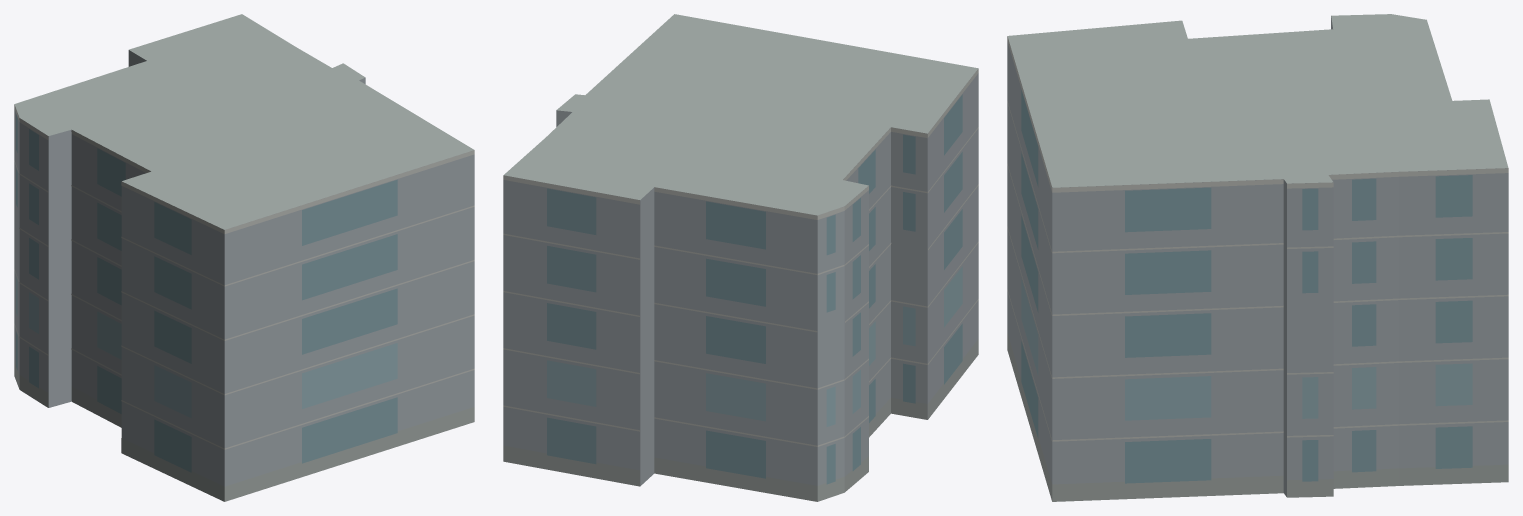
The model's file is survey-upis-32458248.glb.
The picture shows the model from 3 angles, left to right: view 1: azimuth 30°, elevation 25°; view 2: azimuth 150°, elevation 25°; view 3: azimuth 270°, elevation 25°; orthographic projection. The views are drawn at different scales.
Visible parts, largest first — view 1: survey-upis-32458248.tmp; view 2: survey-upis-32458248.tmp; view 3: survey-upis-32458248.tmp.
Part boxes in pixels (x1,y1,x2,y2): survey-upis-32458248.tmp: [14, 14, 474, 501]; survey-upis-32458248.tmp: [503, 14, 978, 501]; survey-upis-32458248.tmp: [1007, 14, 1508, 501].
Size of the model in its own units: 18.12 by 15.25 by 22.07.
